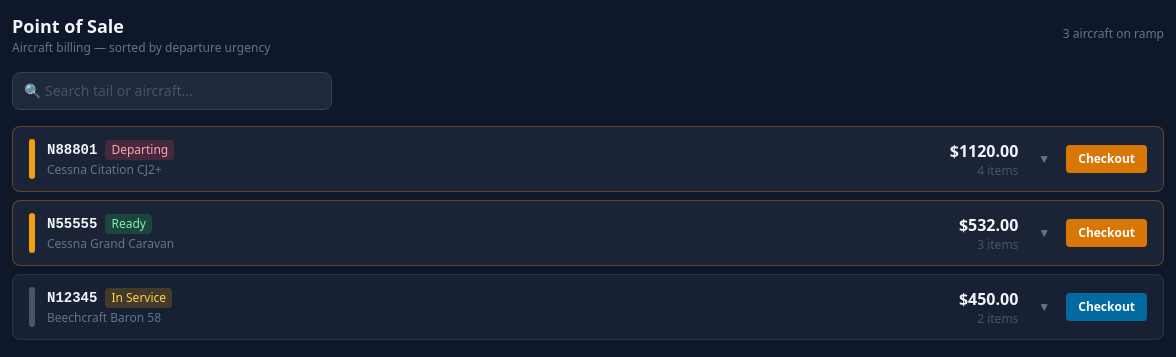
Test: <POS /> — search › no-match shows empty message
Type "ZZZZZZ" into the field with placeholder "Search tail or aircraft…" at point(172, 91), box [12,72,332,110]
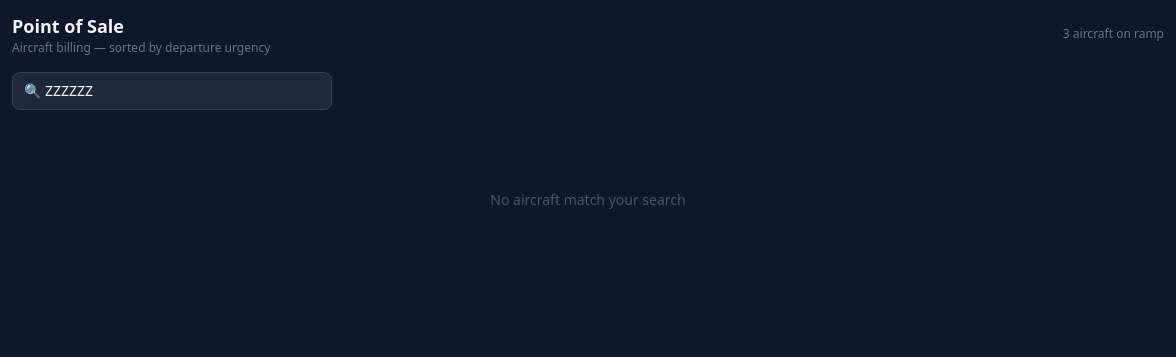
Check: the text "No aircraft match your search" is shown, box [490,190,686,209]
